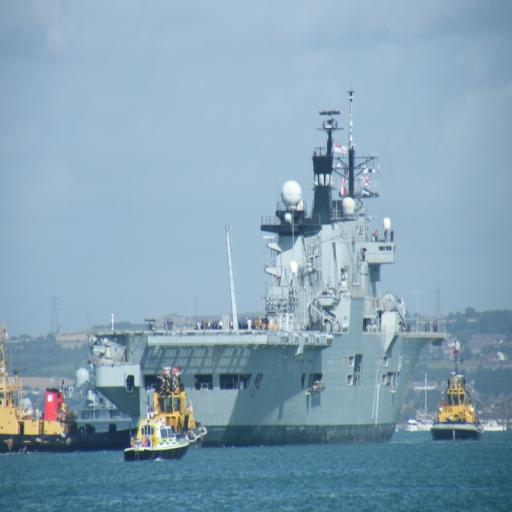Portanaves: (73, 66, 454, 449)
